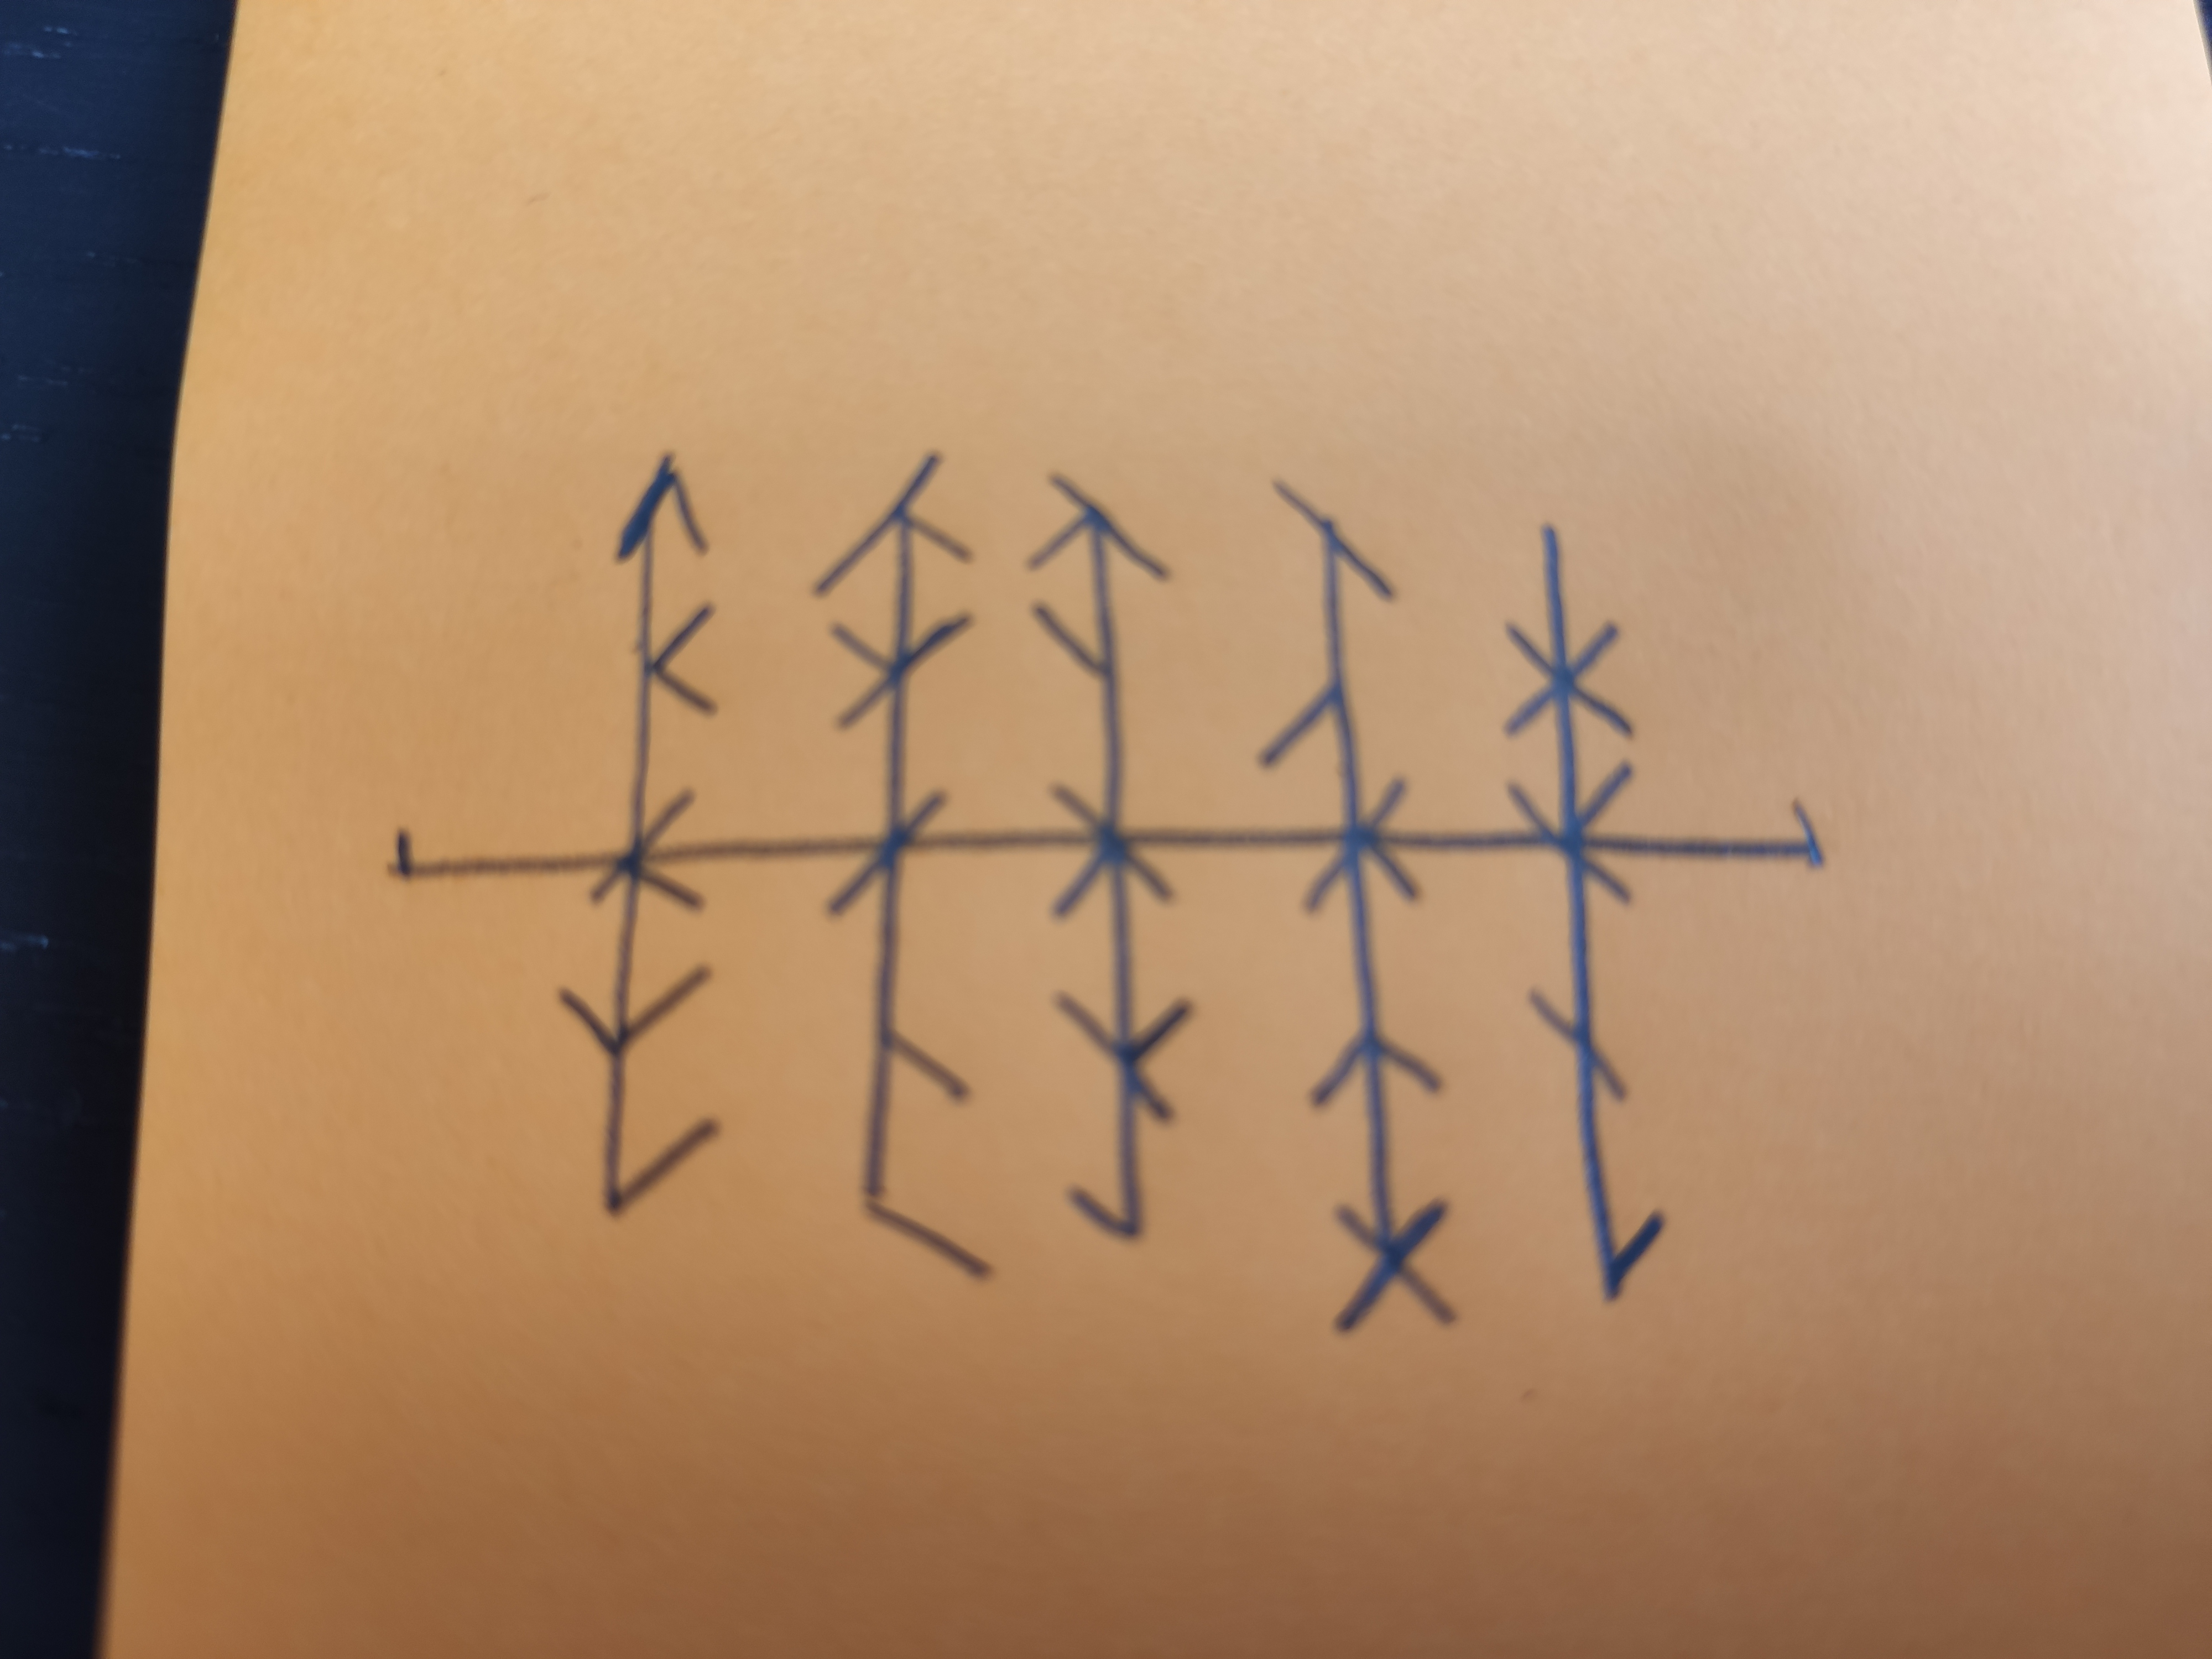Bar: (1258, 477, 1460, 1335), (810, 450, 995, 1283), (1024, 471, 1195, 1243), (1501, 523, 1665, 1305), (557, 450, 723, 1220)
Barcode: (388, 448, 1825, 1335)
End: (1616, 796, 1825, 870)
Start: (388, 828, 599, 878)
